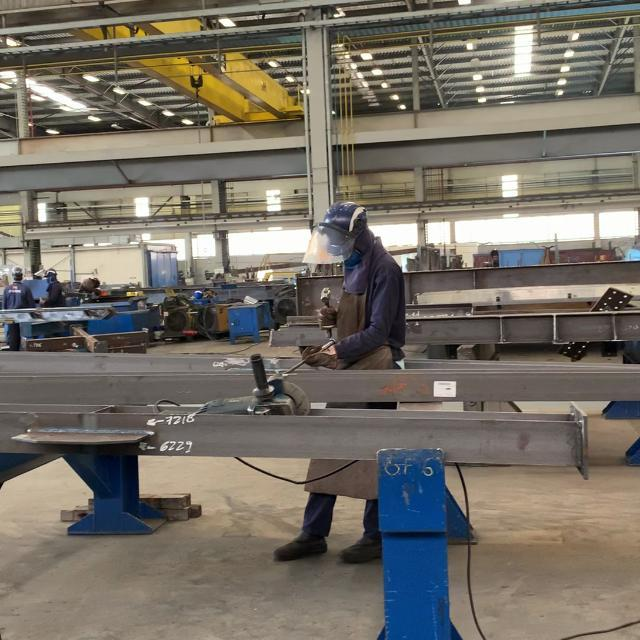eye-glass: (303, 224, 357, 264)
face-shield: (300, 345, 341, 370)
glove: (323, 200, 366, 228)
mask: (271, 201, 408, 566)
safety-shoe: (272, 531, 326, 562), (338, 526, 382, 564)
